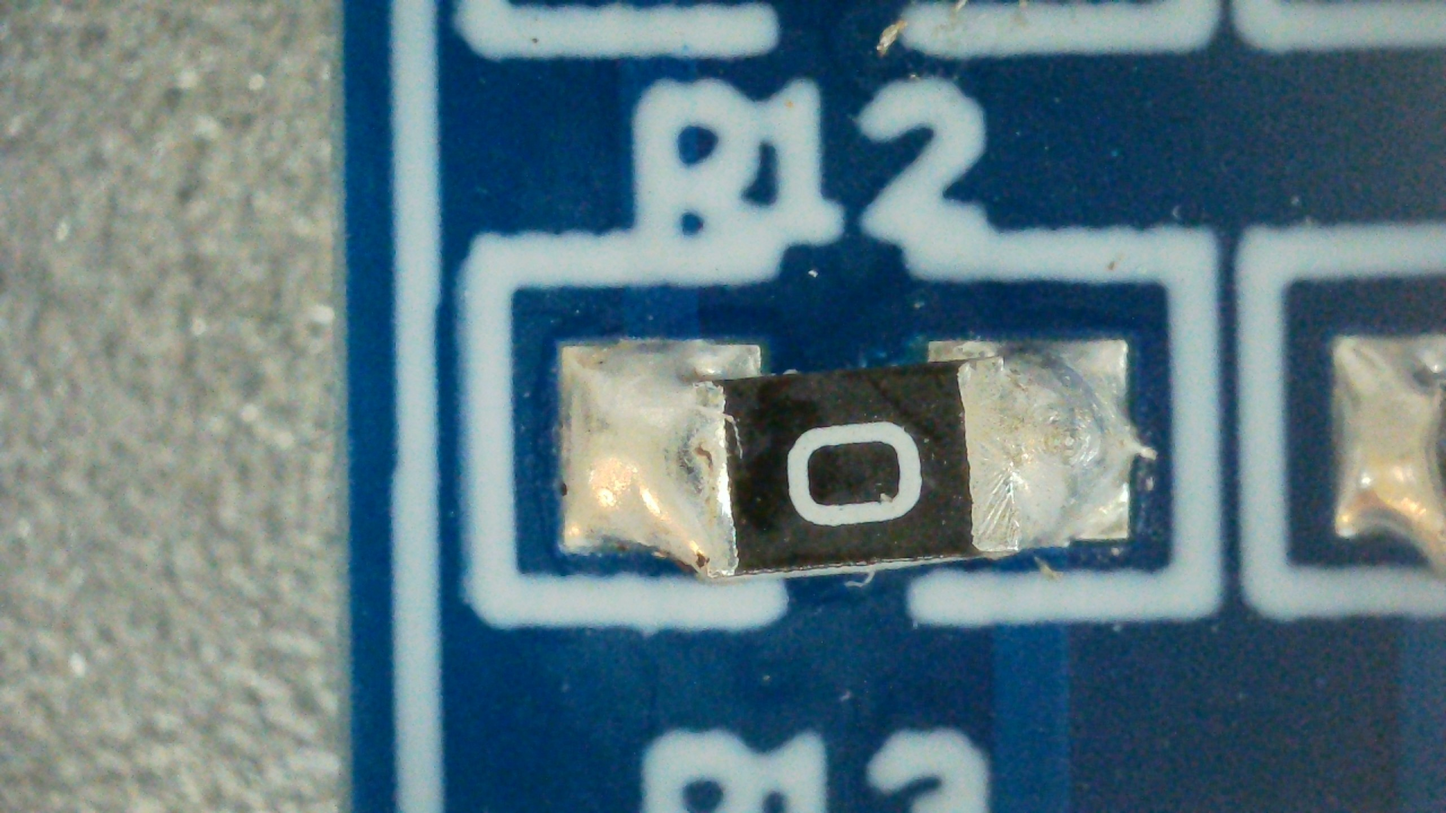NG: (562, 340, 1155, 580)
